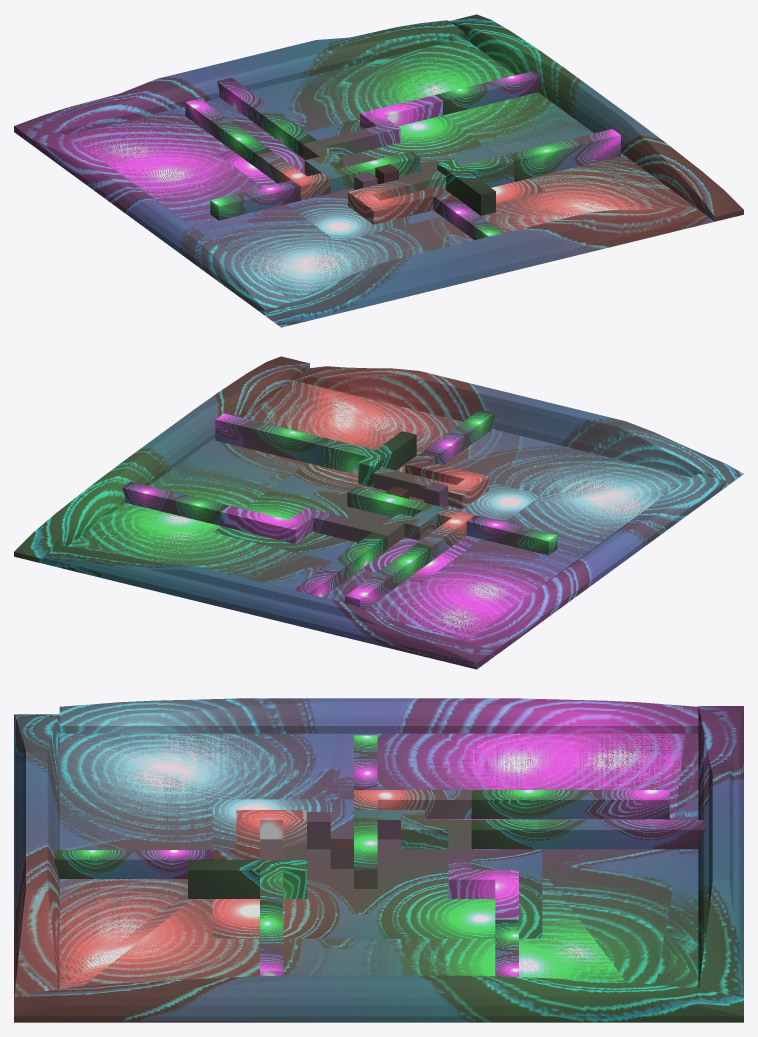
File: Level_design_2.fbx
The picture shows the model from 3 angles, top to bottom: view 1: azimuth 30°, elevation 25°; view 2: azimuth 150°, elevation 25°; view 3: azimuth 270°, elevation 25°; orthographic projection. The views are drawn at different scales.
Visible parts, largest first — view 1: Walls, wall2, wall1, Cube; view 2: Walls, wall2, wall1, Cube; view 3: Walls, wall2, Cube, wall1.
Part boxes in pixels (x1,y1,x2,y2): Walls: (14, 14, 743, 327); wall2: (185, 71, 541, 220); wall1: (348, 129, 620, 239); Cube: (217, 115, 545, 241); Walls: (14, 356, 743, 669); wall2: (122, 481, 557, 609); wall1: (215, 409, 495, 509); Cube: (213, 462, 541, 583); Walls: (14, 698, 743, 1022); wall2: (330, 735, 706, 976); Cube: (212, 799, 542, 938); wall1: (54, 810, 330, 976).
Size of the model in its own units: 3187 by 185 by 3187.
